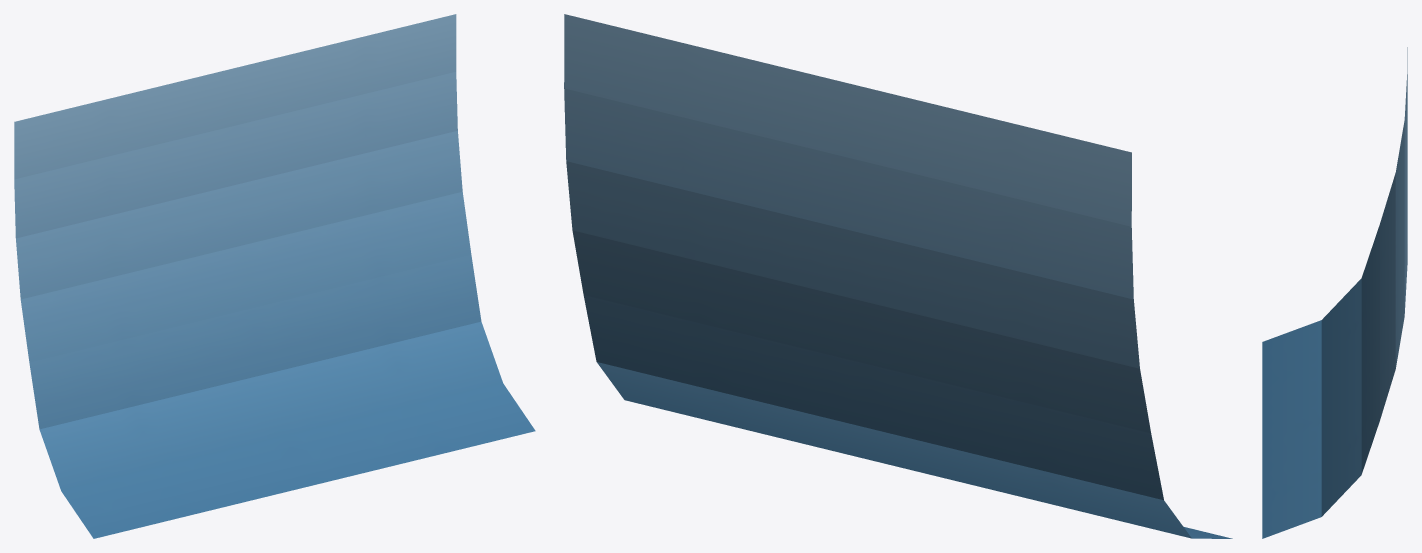
File: SM_IceWall2.fbx
The picture shows the model from 3 angles, left to right: view 1: azimuth 30°, elevation 25°; view 2: azimuth 150°, elevation 25°; view 3: azimuth 270°, elevation 25°; orthographic projection. The views are drawn at different scales.
Visible parts, largest first — view 1: SM_IceWall2; view 2: SM_IceWall2; view 3: SM_IceWall2.
Boxes of the visible parts, bbox=[...] form: SM_IceWall2: bbox=[14, 14, 535, 538]; SM_IceWall2: bbox=[564, 14, 1232, 538]; SM_IceWall2: bbox=[1262, 47, 1407, 538].
Bounding box in the file's own units: 600 × 466 × 187.
